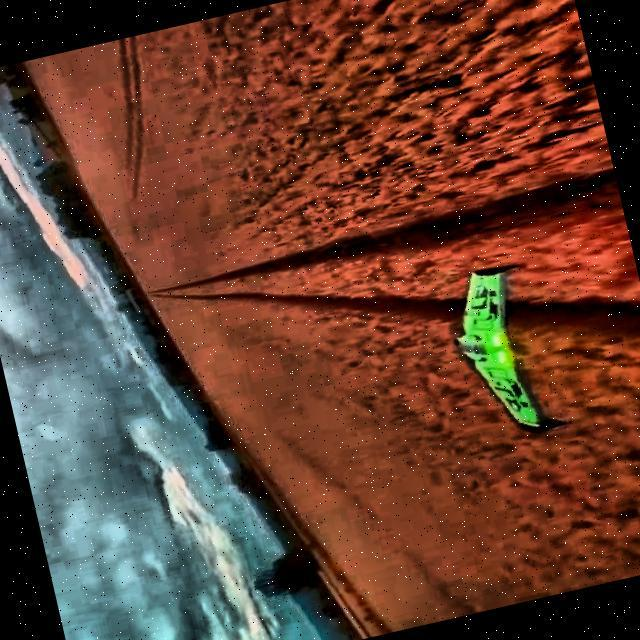iha: (409, 225, 586, 462)
